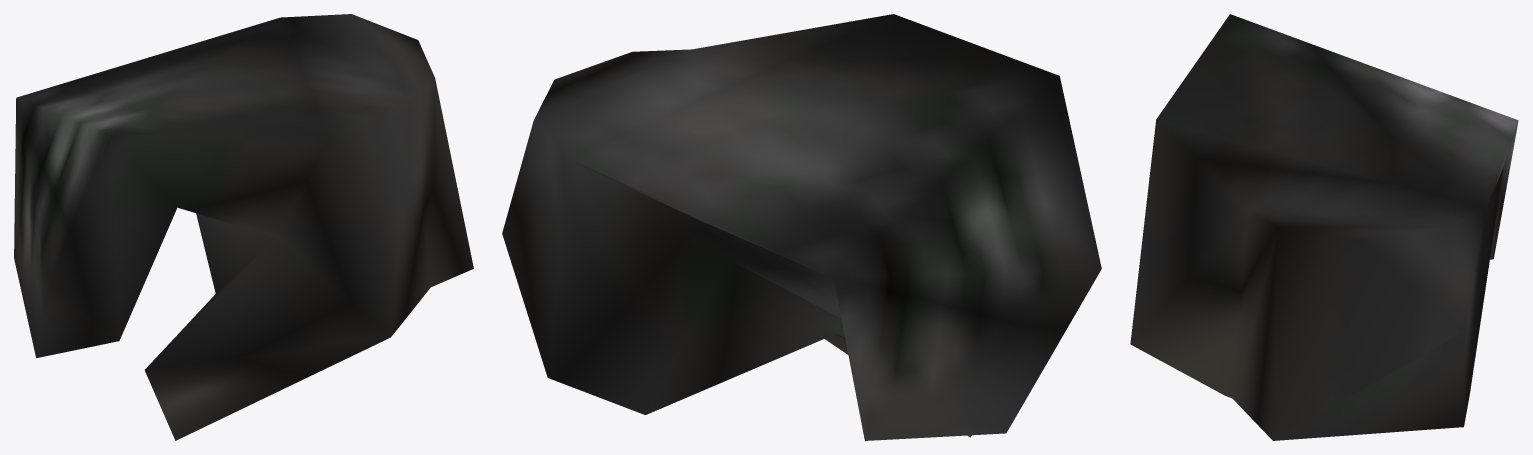
The model's file is Robot01.RightPalm1.fbx.
3 views of the same model, side by side, from view 1: azimuth 30°, elevation 25°; view 2: azimuth 150°, elevation 25°; view 3: azimuth 270°, elevation 25° (orthographic). The views are drawn at different scales.
Visible parts, largest first — view 1: Robot01.RightPalm1; view 2: Robot01.RightPalm1; view 3: Robot01.RightPalm1.
Boxes of the visible parts, bbox=[...] form: Robot01.RightPalm1: bbox=[14, 14, 473, 440]; Robot01.RightPalm1: bbox=[502, 14, 1101, 440]; Robot01.RightPalm1: bbox=[1130, 14, 1518, 440].
Size of the model in its own units: 29.39 by 21.27 by 23.04.
